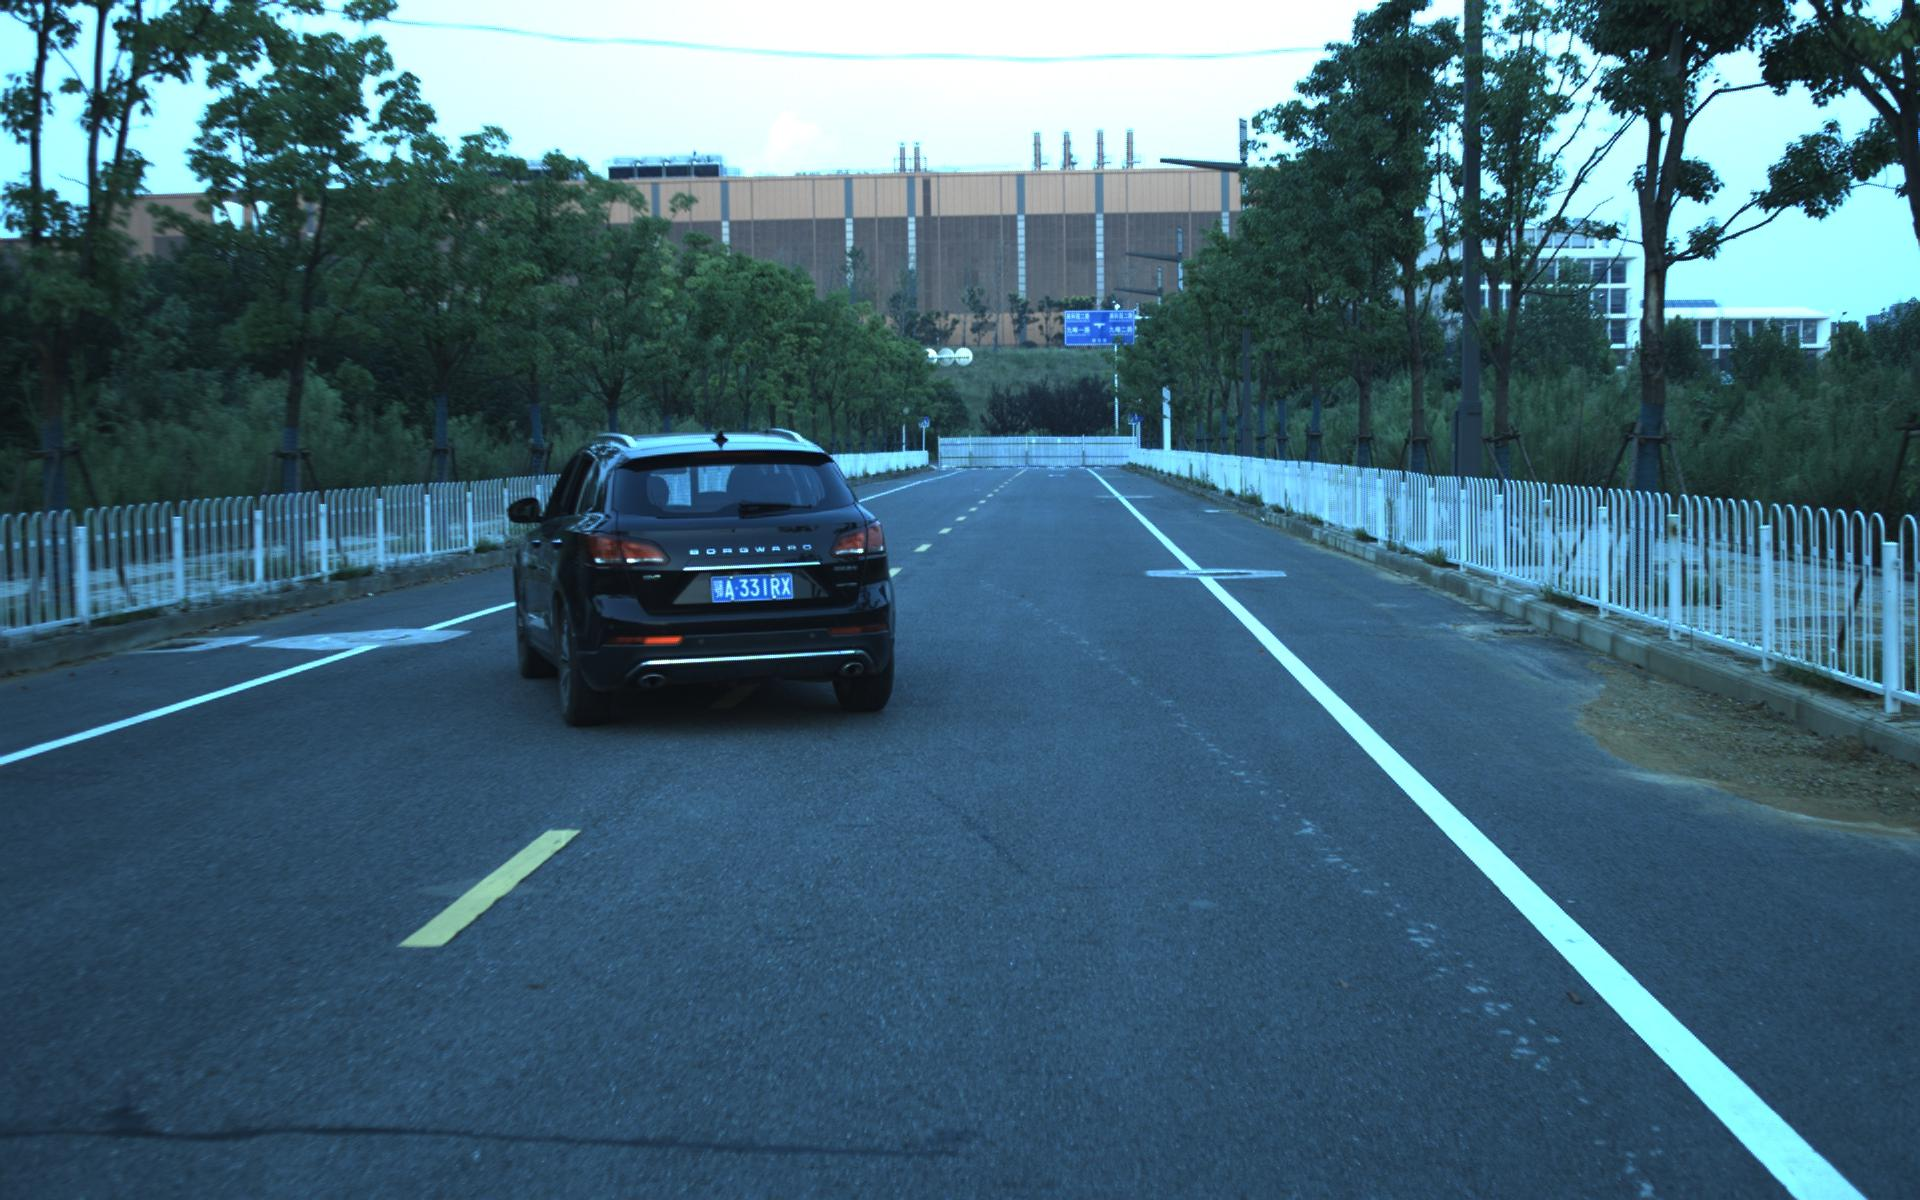Car: (502, 422, 904, 734)
